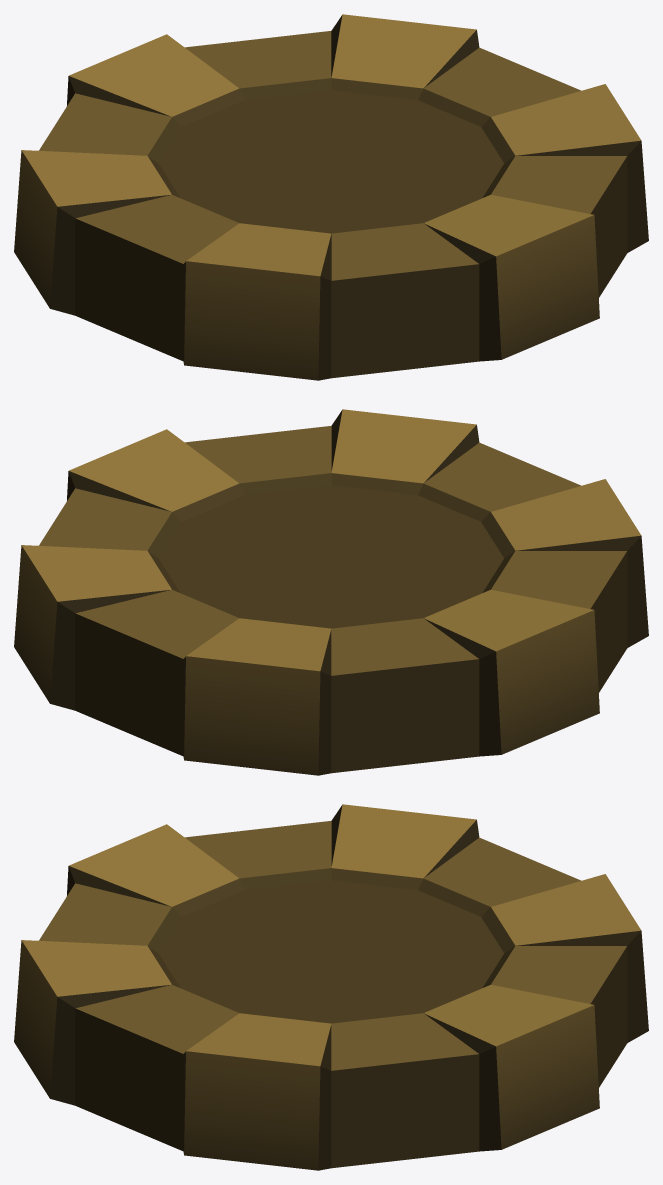
The model's file is ENV_RTS_Ruins_WakeUpCircle_01.fbx.
3 views of the same model, one above another, from view 1: azimuth 30°, elevation 25°; view 2: azimuth 150°, elevation 25°; view 3: azimuth 270°, elevation 25° (orthographic).
Visible parts, largest first — view 1: ENV_RTS_Ruins_WakeUpCircle_01; view 2: ENV_RTS_Ruins_WakeUpCircle_01; view 3: ENV_RTS_Ruins_WakeUpCircle_01.
Part boxes in pixels (x1,y1,x2,y2): ENV_RTS_Ruins_WakeUpCircle_01: [14, 14, 648, 380]; ENV_RTS_Ruins_WakeUpCircle_01: [14, 409, 648, 775]; ENV_RTS_Ruins_WakeUpCircle_01: [14, 804, 648, 1170].
Size of the model in its own units: 297 by 55.6 by 297.
